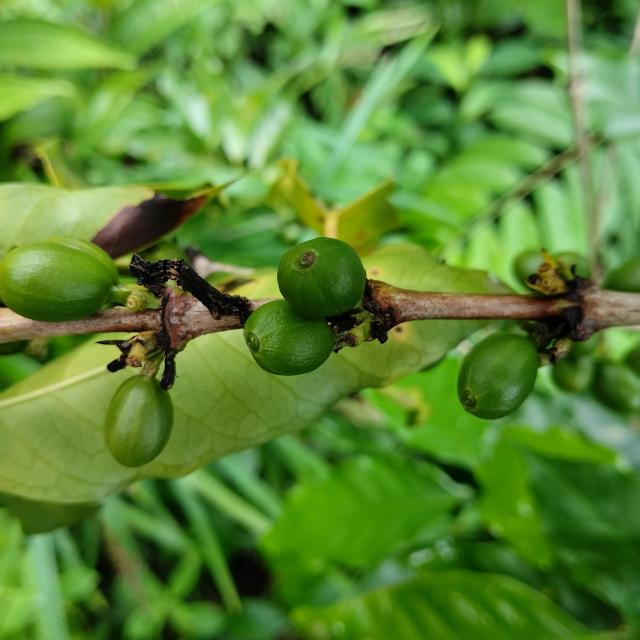green: (0, 242, 113, 322), (277, 237, 366, 318), (458, 334, 539, 420), (243, 300, 334, 376), (104, 375, 173, 468), (44, 235, 118, 284)
